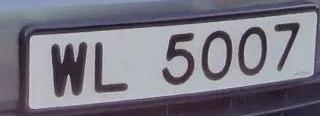0: (196, 25, 236, 85), (233, 23, 274, 78)
5: (158, 26, 199, 92)
7: (269, 18, 304, 76)
L: (88, 33, 136, 99)
W: (43, 32, 91, 105)
